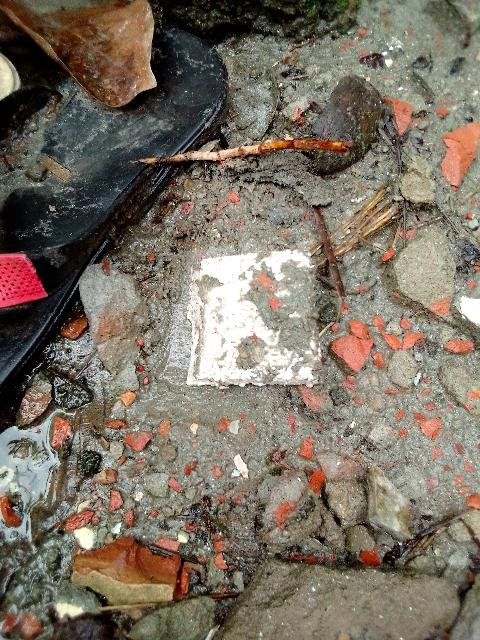cocksheet: (164, 222, 353, 384)
